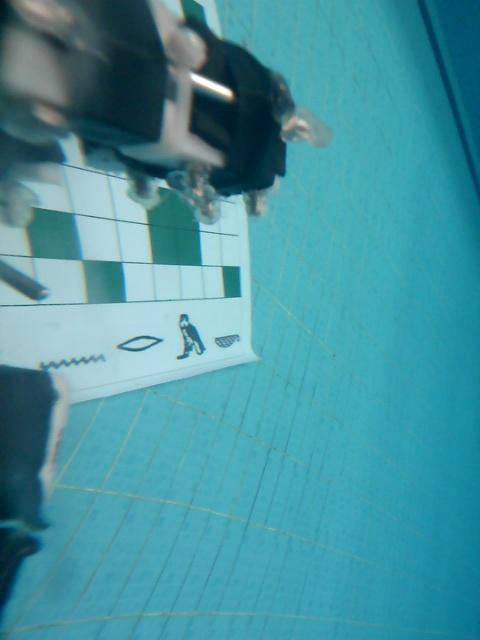Basket: (211, 329, 245, 354)
Mouth: (113, 334, 172, 357)
Owl: (175, 311, 208, 362)
Water: (37, 350, 113, 382)
